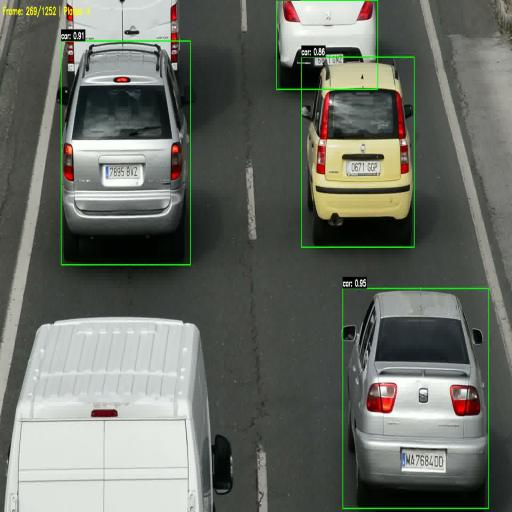license-plate: (401, 448, 446, 473), (103, 165, 140, 180), (346, 161, 380, 175), (313, 55, 343, 67)
